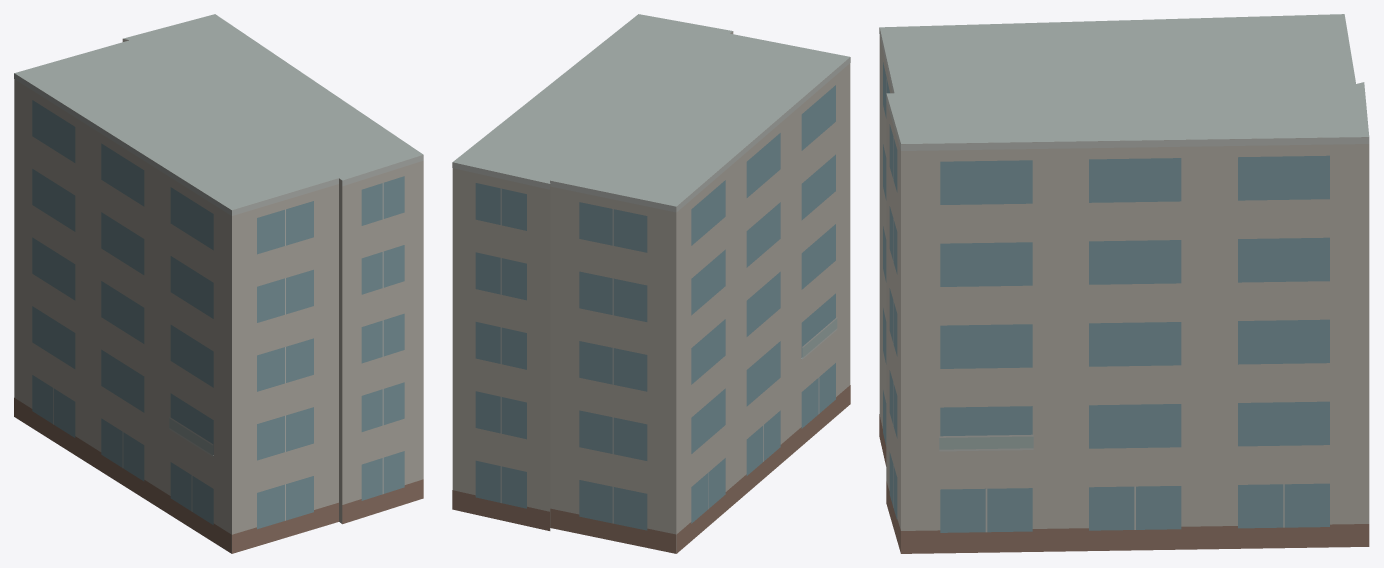
File: survey-upis-32906493.glb
The picture shows the model from 3 angles, left to right: view 1: azimuth 30°, elevation 25°; view 2: azimuth 150°, elevation 25°; view 3: azimuth 270°, elevation 25°; orthographic projection. The views are drawn at different scales.
Parts seen in each view (by area): view 1: survey-upis-32906493.tmp; view 2: survey-upis-32906493.tmp; view 3: survey-upis-32906493.tmp.
Boxes of the visible parts, bbox=[...] form: survey-upis-32906493.tmp: bbox=[14, 14, 423, 553]; survey-upis-32906493.tmp: bbox=[452, 14, 850, 553]; survey-upis-32906493.tmp: bbox=[879, 14, 1369, 553].
Size of the model in its own units: 9.82 by 14.4 by 15.61.
